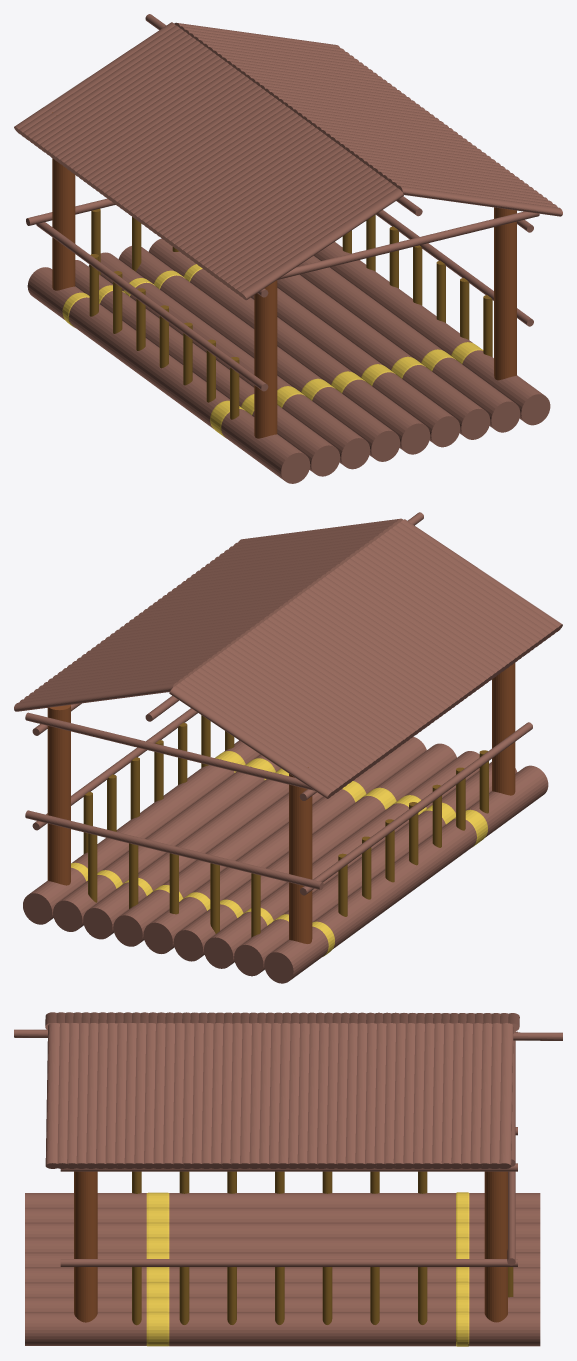
File: beach_hut.glb
The picture shows the model from 3 angles, top to bottom: view 1: azimuth 30°, elevation 25°; view 2: azimuth 150°, elevation 25°; view 3: azimuth 270°, elevation 25°; orthographic projection.
Parts seen in each view (by area): view 1: floor, Left Roof, Right Roof, 4 Beams, Cylinder.001, Cylinder, support bam front, Cylinder.004; view 2: floor, Left Roof, Right Roof, 4 Beams, Cylinder.001, Cylinder, Cylinder.004, Cylinder.003, Cylinder.002; view 3: Right Roof, floor, 4 Beams, Cylinder.001, Left Roof, Cylinder, Cylinder.005, Cylinder.003, Cylinder.006, Cylinder.002.
Part boxes in pixels (<box>): floor: <box>27,238,550,483</box>; Left Roof: <box>14,22,403,300</box>; Right Roof: <box>174,22,562,216</box>; 4 Beams: <box>52,112,516,438</box>; Cylinder.001: <box>89,215,492,419</box>; Cylinder: <box>36,210,533,391</box>; support bam front: <box>277,211,539,279</box>; Cylinder.004: <box>91,208,178,274</box>; floor: <box>23,737,548,983</box>; Left Roof: <box>169,519,562,798</box>; Right Roof: <box>14,518,402,711</box>; 4 Beams: <box>47,663,515,943</box>; Cylinder.001: <box>83,715,488,916</box>; Cylinder: <box>32,708,532,895</box>; Cylinder.004: <box>88,833,260,937</box>; Cylinder.003: <box>25,810,323,889</box>; Cylinder.002: <box>25,712,314,790</box>; Right Roof: <box>45,1023,513,1168</box>; floor: <box>25,1192,540,1346</box>; 4 Beams: <box>74,1015,507,1322</box>; Cylinder.001: <box>132,1171,427,1325</box>; Left Roof: <box>45,1012,519,1031</box>; Cylinder: <box>60,1127,517,1266</box>; Cylinder.005: <box>60,1031,517,1171</box>; Cylinder.003: <box>507,1171,515,1265</box>; Cylinder.006: <box>14,1029,562,1040</box>; Cylinder.002: <box>511,1031,515,1166</box>.
Bounding box in the file's own units: 12.81 × 9.9 × 18.78.
